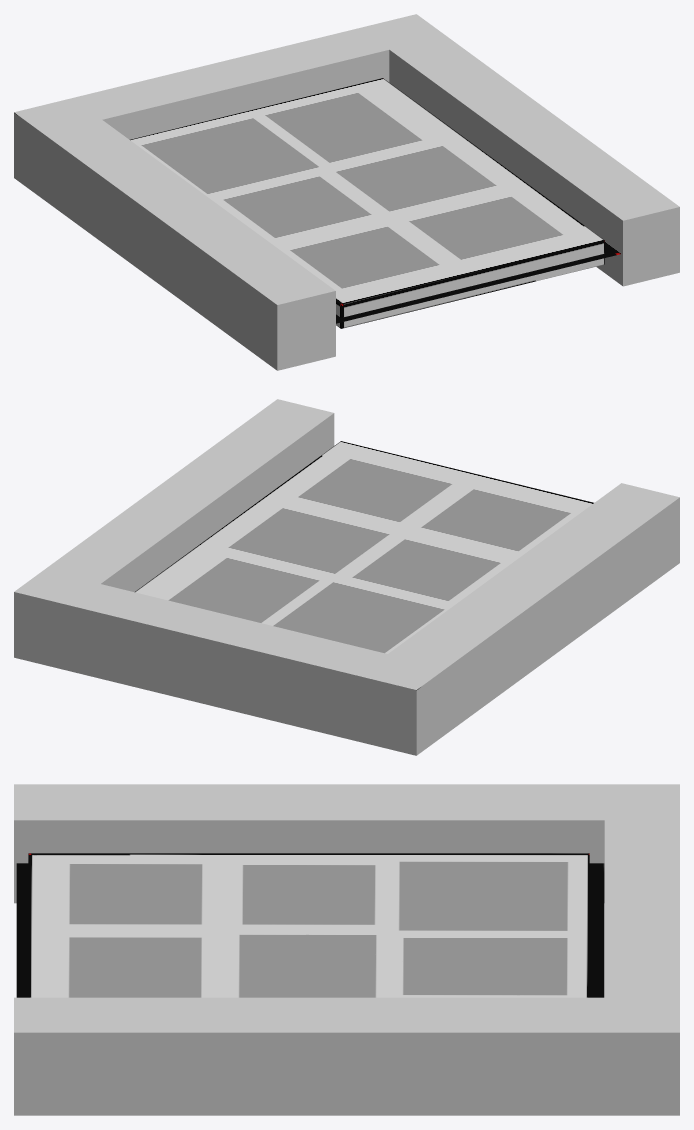
File: doorframe.dae
3 views of the same model, one above another, from view 1: azimuth 30°, elevation 25°; view 2: azimuth 150°, elevation 25°; view 3: azimuth 270°, elevation 25° (orthographic). The views are drawn at different scales.
Visible parts, largest first — view 1: DoorframeFaces, Door; view 2: DoorframeFaces, Door; view 3: DoorframeFaces, Door.
Part boxes in pixels (x1,y1,x2,y2): DoorframeFaces: [14, 14, 679, 370]; Door: [130, 78, 604, 328]; DoorframeFaces: [14, 399, 679, 755]; Door: [135, 441, 593, 653]; DoorframeFaces: [14, 784, 679, 1115]; Door: [28, 853, 589, 997].
Size of the model in its own units: 2 by 2.27 by 0.3122.
